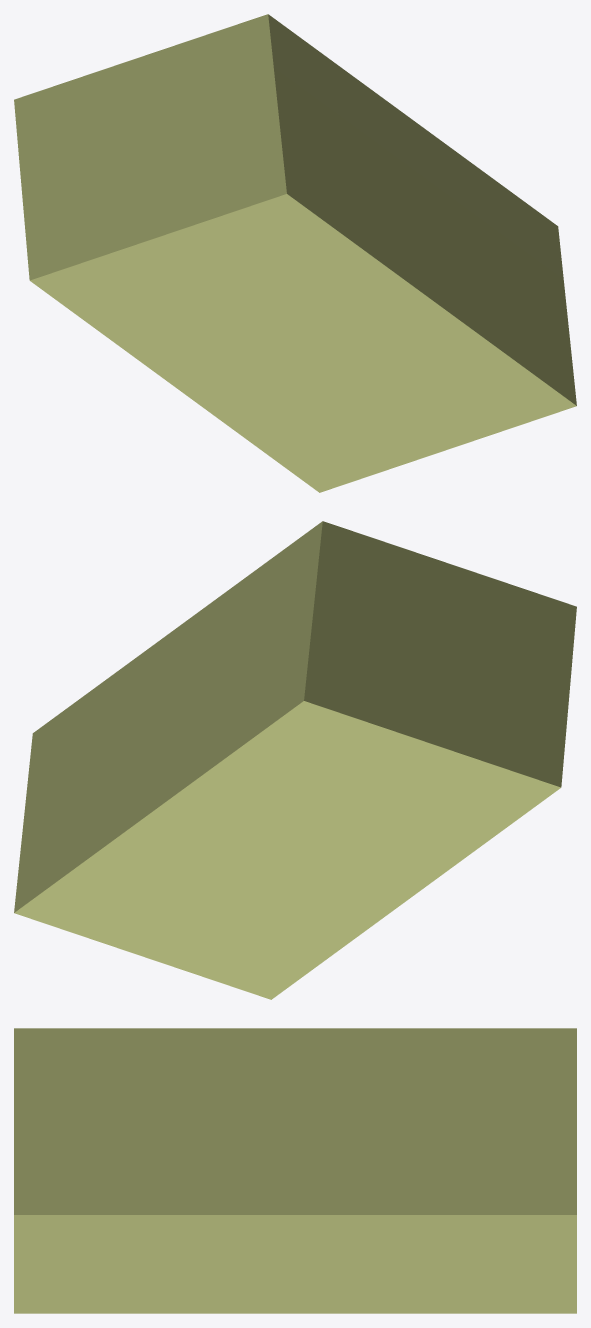
3 renders of one model, top to bottom at view 1: azimuth 30°, elevation 25°; view 2: azimuth 150°, elevation 25°; view 3: azimuth 270°, elevation 25°, orthographic. The views are drawn at different scales.
Visible parts, largest first — view 1: 0_2_3_3_3_1_0_2_3_3_0; view 2: 0_2_3_3_3_1_0_2_3_3_0; view 3: 0_2_3_3_3_1_0_2_3_3_0.
Part boxes in pixels (x1,y1,x2,y2): 0_2_3_3_3_1_0_2_3_3_0: [14, 14, 576, 492]; 0_2_3_3_3_1_0_2_3_3_0: [14, 521, 576, 999]; 0_2_3_3_3_1_0_2_3_3_0: [14, 1028, 576, 1313].
Bounding box in the file's own units: 3.26 × 2.38 × 6.
